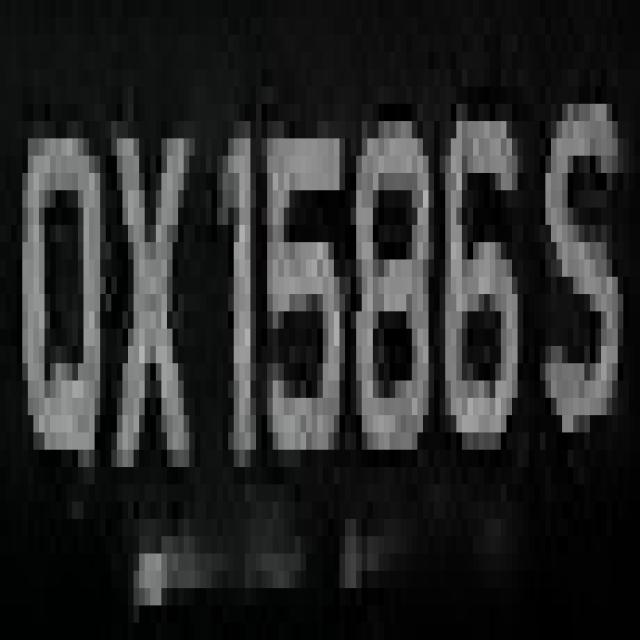1: (212, 69, 262, 536)
5: (256, 52, 345, 502)
6: (428, 70, 528, 432)
8: (334, 70, 440, 484)
Q: (22, 52, 100, 502)
S: (540, 34, 640, 450)
X: (94, 52, 194, 519)
